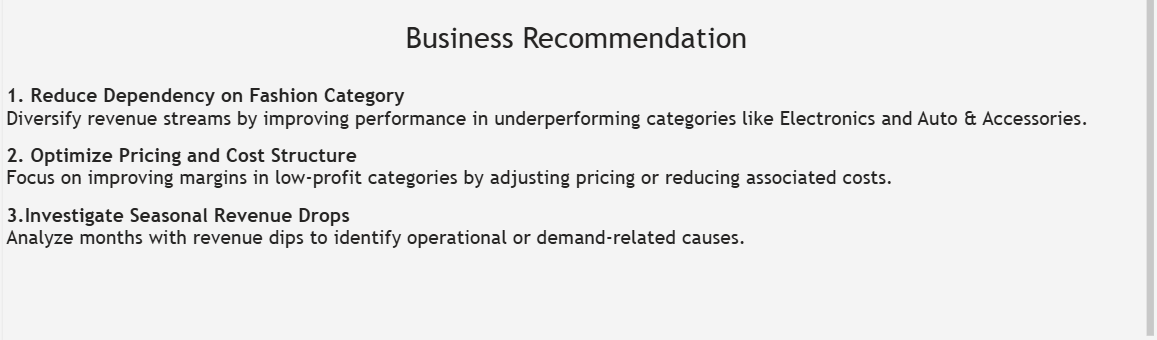

The page's visual inventory and layout, read from the dashboard file:
{"tool":"powerbi","page":{"name":"Page 3","canvas":[1280,720],"ordinal":2},"visuals":[{"type":"textbox","box":[10,0,1270,719.8],"z":0}]}

Visuals, with their boxes on the page's 1280x720 design canvas (x1, y1, x2, y2). These are canvas units, not pixel positions in the 1157x340 screenshot, which may show the page scaled, cropped or inside an application window:
textbox: [x1=10, y1=0, x2=1280, y2=720]
